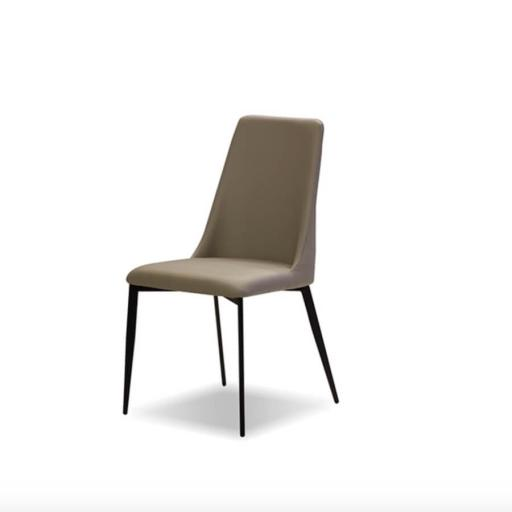chair: (123, 115, 339, 437)
